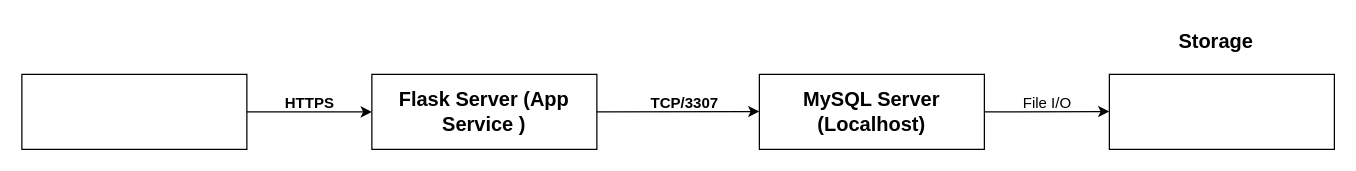
Some shapes in this 1356 by 171 pixel diagram are drawn without their labels. The shapes that lost their labels are listed below. From the top down, each one's centre as x and y in pixels, then its label:
At [134,111]: "Librarian Conosle (PC)".
At [1221,111]: "SSD /Harddisk".
